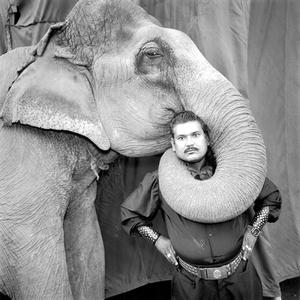elephant: (1, 1, 268, 299)
